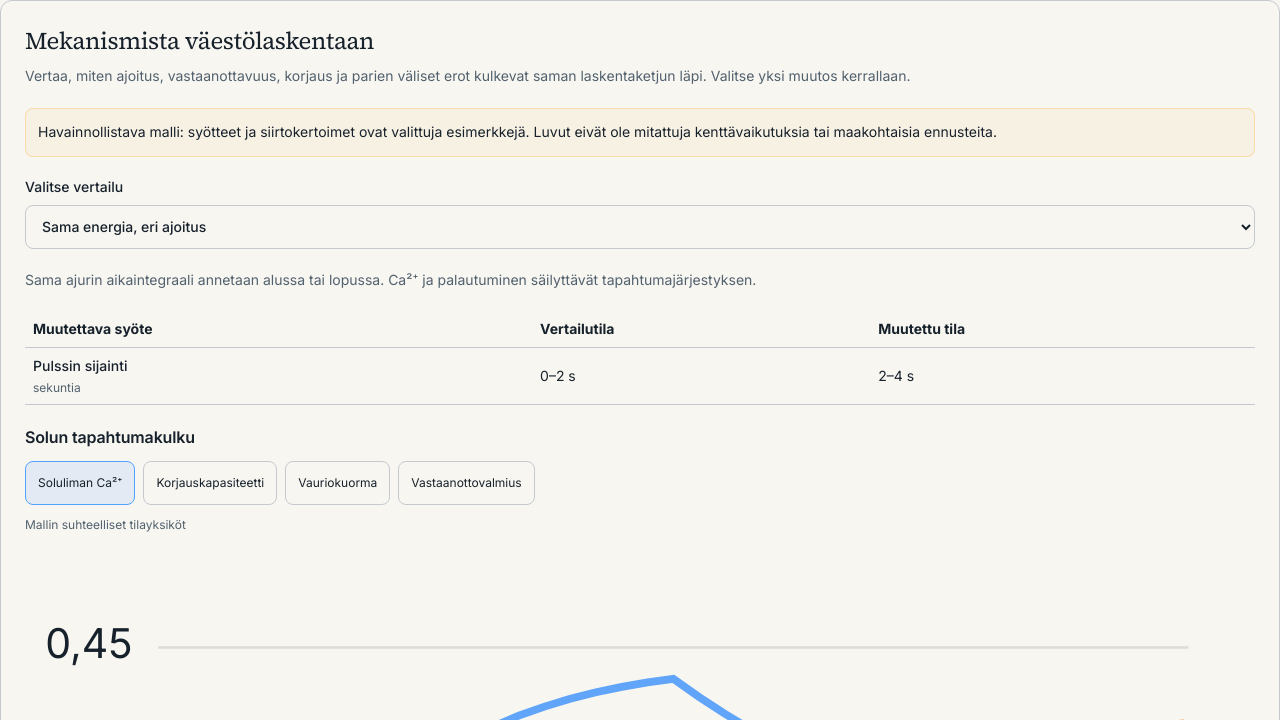
it: Python-backed conditional scenarios › switches among all exported comparisons and displays the exact generated result
Select "Sama energia, eri ajoitus" in the dropdown labelled "Valitse vertailu" at coordinates (640, 226), box top-left (25, 204), bottom-right (1255, 248)
Expected: the text "Sama ajurin aikaintegraali annetaan alussa tai lopussa. Ca²⁺ ja palautuminen säilyttävät tapahtumajärjestyksen." is shown, top-left (25, 270), bottom-right (756, 288)
Select "Sama hormonikeskiarvo, eri vaihe" in the dropdown labelled "Valitse vertailu" at coordinates (640, 226), box top-left (25, 204), bottom-right (1255, 248)
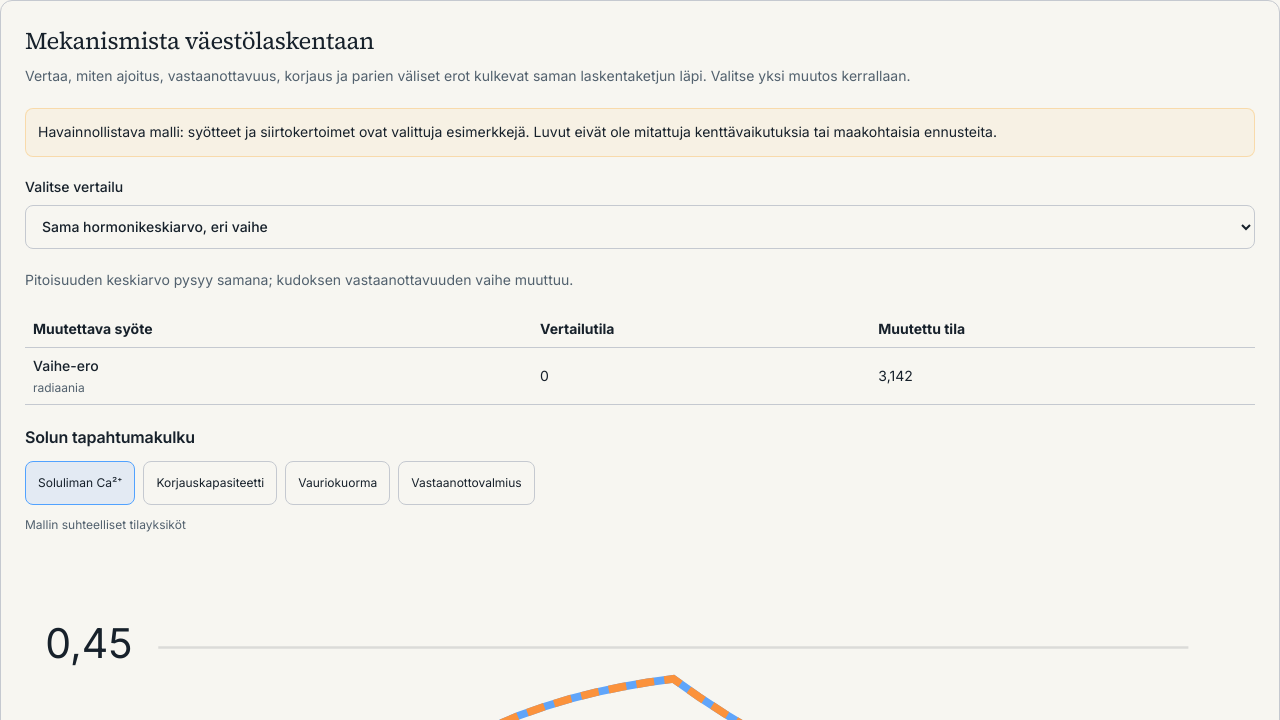
Now the text "Pitoisuuden keskiarvo pysyy samana; kudoksen vastaanottavuuden vaihe muuttuu." is shown, box top-left (25, 270), bottom-right (573, 288)
Select "Korjauskapasiteetti" in the dropdown labelled "Valitse vertailu" at coordinates (640, 226), box top-left (25, 204), bottom-right (1255, 248)
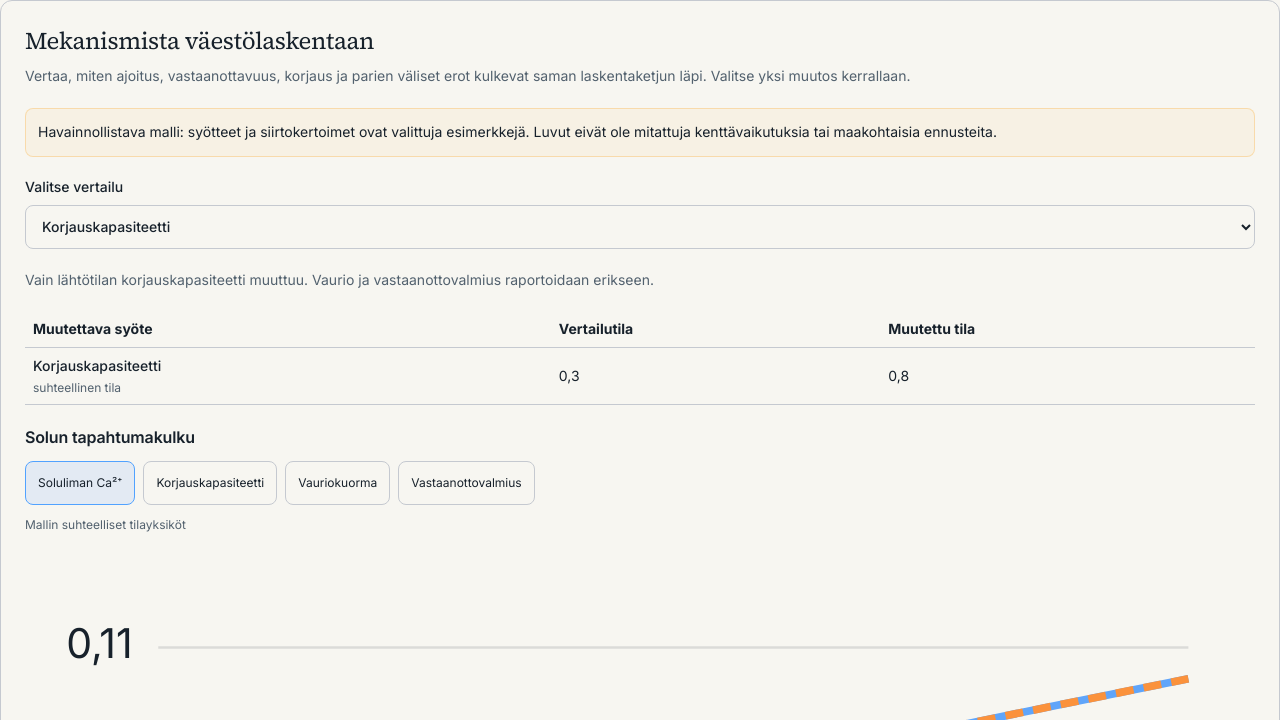
Now the text "Vain lähtötilan korjauskapasiteetti muuttuu. Vaurio ja vastaanottovalmius raportoidaan erikseen." is shown, box top-left (25, 270), bottom-right (654, 288)
Select "Sama keskiarvo, erilainen odotusjakauma" in the dropdown labelled "Valitse vertailu" at coordinates (640, 226), box top-left (25, 204), bottom-right (1255, 248)
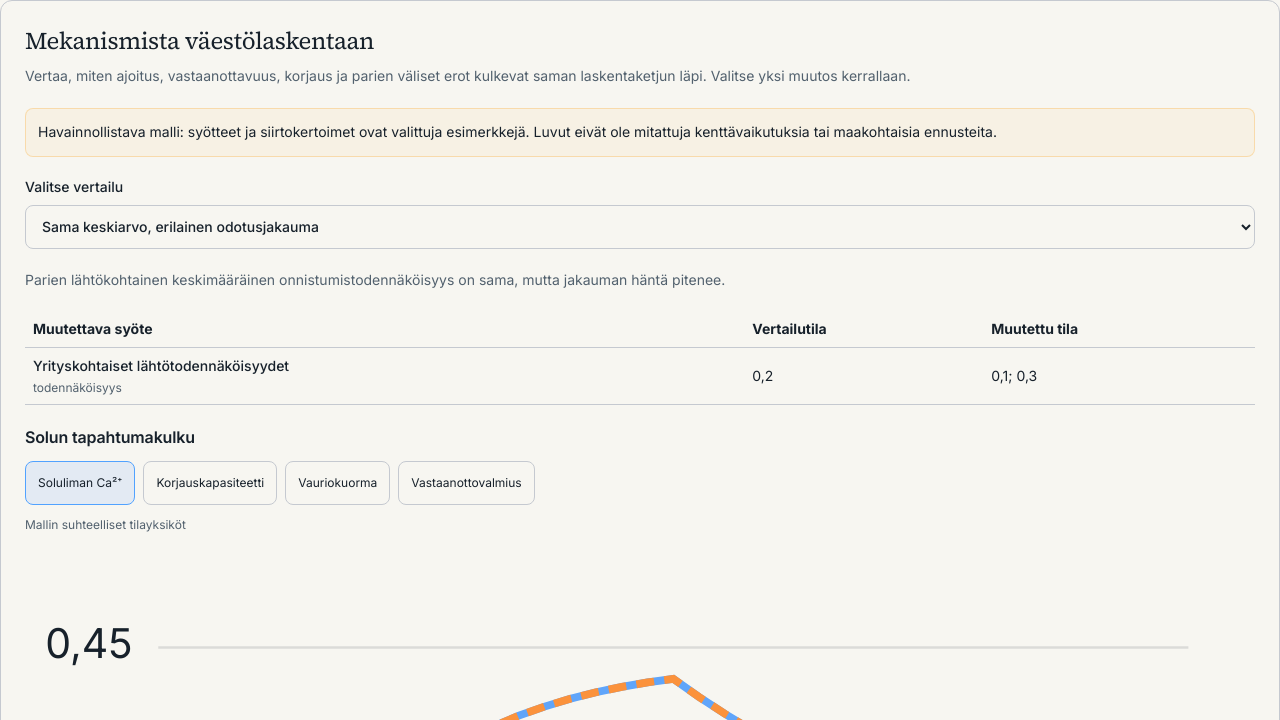
Expected: the text "Luvut eivät ole mitattuja kenttävaikutuksia" is shown, top-left (38, 123), bottom-right (997, 140)
Now the text "Parien lähtökohtainen keskimääräinen onnistumistodennäköisyys on sama, mutta jakauman häntä pitenee." is shown, box top-left (25, 270), bottom-right (725, 288)
